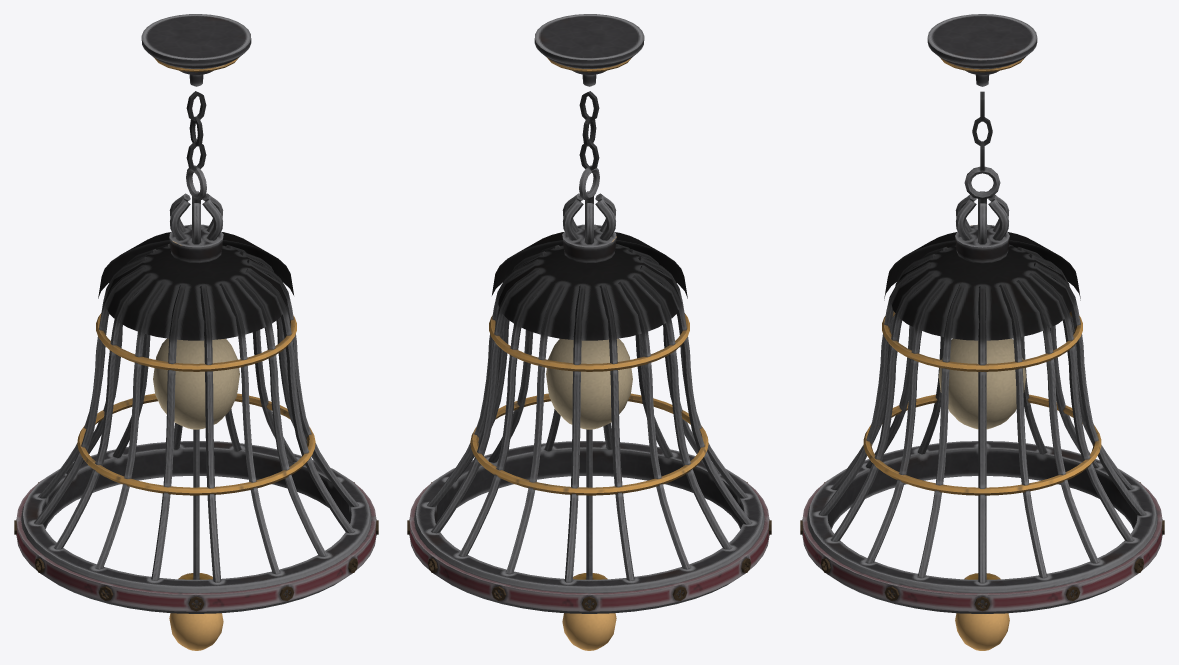
File: PendantBellCage.fbx
3 views of the same model, side by side, from view 1: azimuth 30°, elevation 25°; view 2: azimuth 150°, elevation 25°; view 3: azimuth 270°, elevation 25° (orthographic).
Visible parts, largest first — view 1: PendantBellCage_Main, PendantBellCage_Glow; view 2: PendantBellCage_Main, PendantBellCage_Glow; view 3: PendantBellCage_Main, PendantBellCage_Glow.
Part boxes in pixels (x1=…): PendantBellCage_Main: x1=14, y1=14, x2=378, y2=613; PendantBellCage_Glow: x1=153, y1=338, x2=239, y2=650; PendantBellCage_Main: x1=407, y1=14, x2=771, y2=613; PendantBellCage_Glow: x1=546, y1=338, x2=632, y2=650; PendantBellCage_Main: x1=800, y1=14, x2=1164, y2=613; PendantBellCage_Glow: x1=938, y1=338, x2=1026, y2=650.
Bounding box in the file's own units: 199 × 369 × 199.
